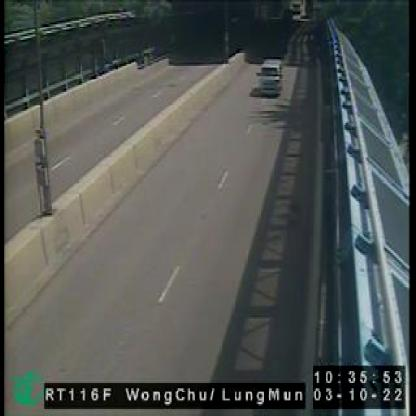Car: (258, 57, 280, 97)
